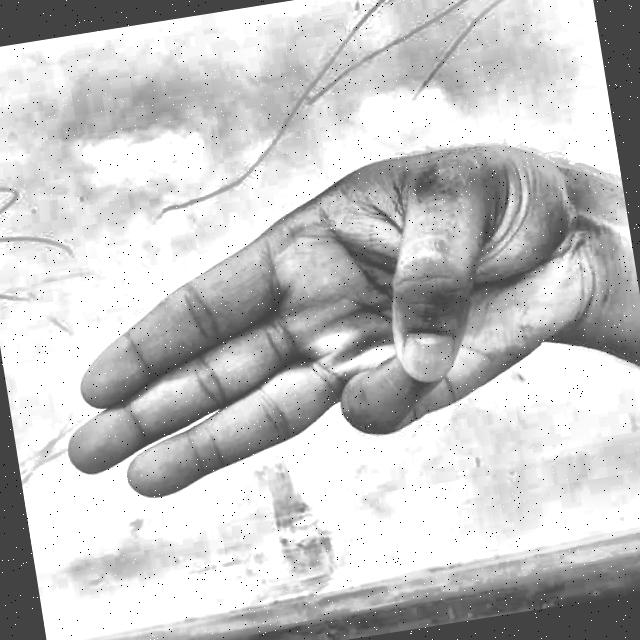Ma: (12, 112, 627, 548)
